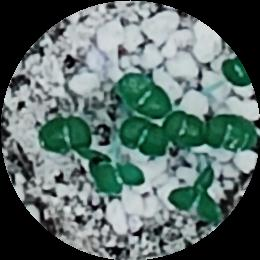Basil: (119, 74, 171, 120), (171, 177, 215, 221), (206, 111, 256, 149), (165, 114, 211, 154), (120, 122, 163, 156), (99, 163, 144, 194), (40, 115, 83, 147)
